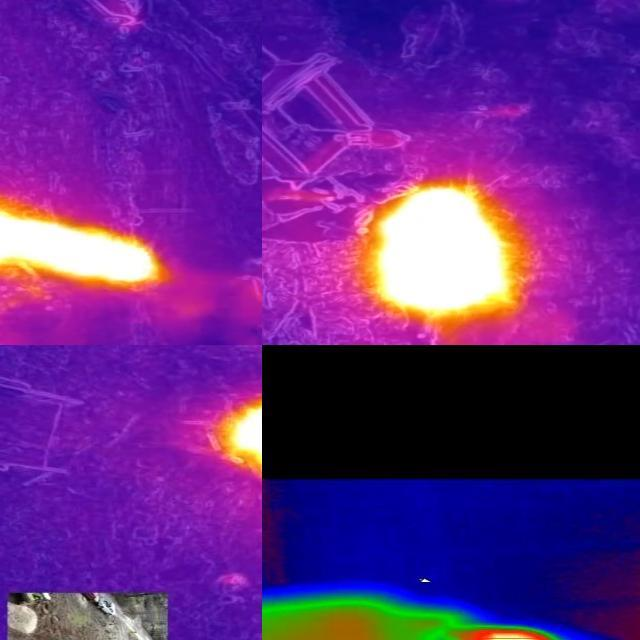fire: (359, 179, 539, 324), (1, 196, 167, 291), (452, 625, 596, 640)
